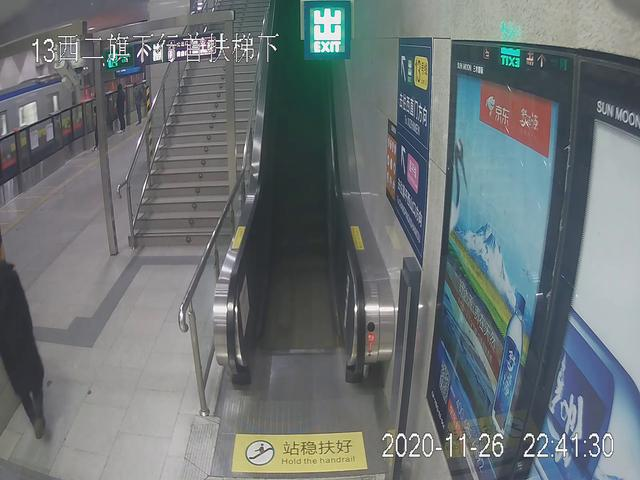person: (114, 84, 126, 136)
